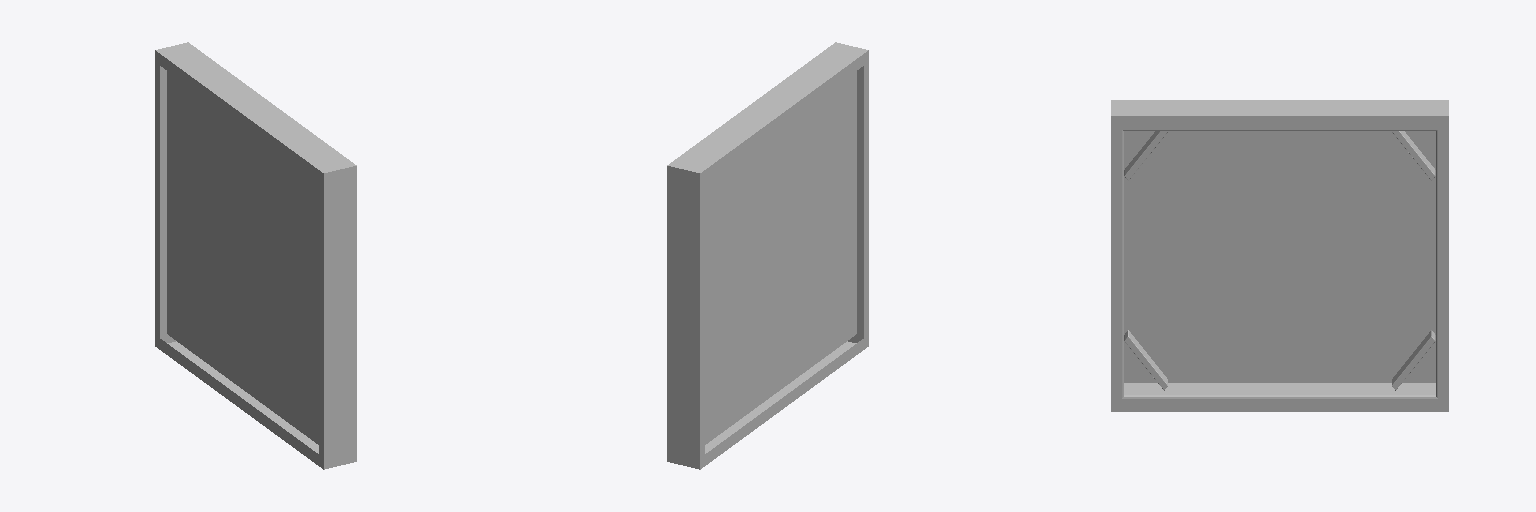
The model's file is paintingBack.obj.
The picture shows the model from 3 angles: view 1: azimuth 30°, elevation 25°; view 2: azimuth 150°, elevation 25°; view 3: azimuth 270°, elevation 25°; orthographic projection.
Visible parts, largest first — view 1: painting.001, painting; view 2: painting.001, painting; view 3: painting.001.
Part boxes in pixels (left/top/right/bottom): painting.001: left=156, top=42, right=356, bottom=469; painting: left=155, top=50, right=323, bottom=469; painting.001: left=667, top=42, right=867, bottom=469; painting: left=700, top=50, right=868, bottom=469; painting.001: left=1111, top=100, right=1448, bottom=411.
Bounding box in the file's own units: 0.0856 × 0.734 × 0.7568.